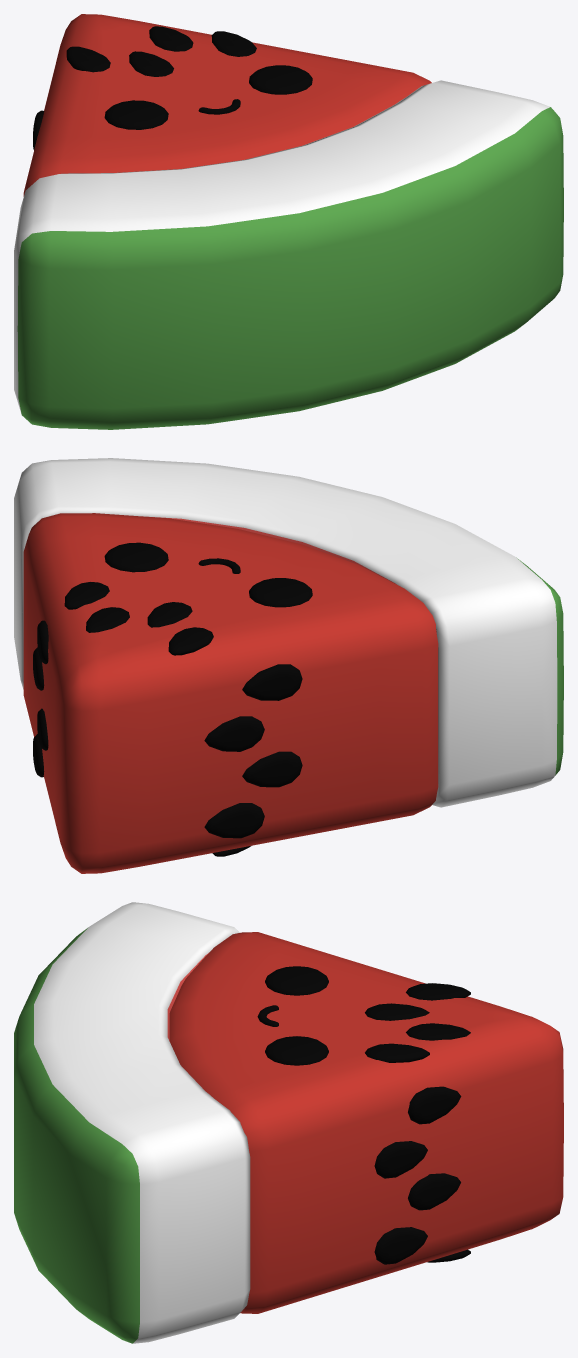
The model's file is Watermelon.fbx.
3 views of the same model, one above another, from view 1: azimuth 30°, elevation 25°; view 2: azimuth 150°, elevation 25°; view 3: azimuth 270°, elevation 25° (orthographic).
Parts seen in each view (by area): view 1: Faces; view 2: Faces; view 3: Faces.
Part boxes in pixels (bbox=[...]): Faces: bbox=[14, 14, 563, 429]; Faces: bbox=[14, 458, 563, 873]; Faces: bbox=[14, 902, 563, 1343].
Size of the model in its own units: 1.01 by 0.3949 by 0.8953.
2 materials, 1 textured.
